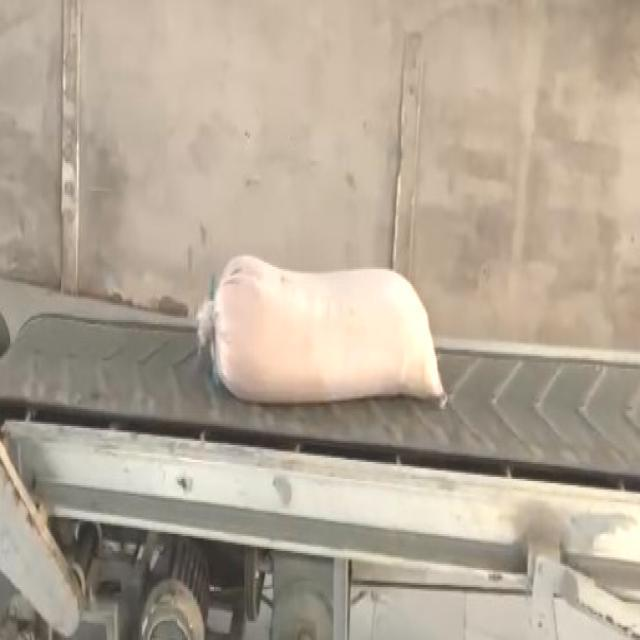gunny_bag: (214, 256, 445, 402)
